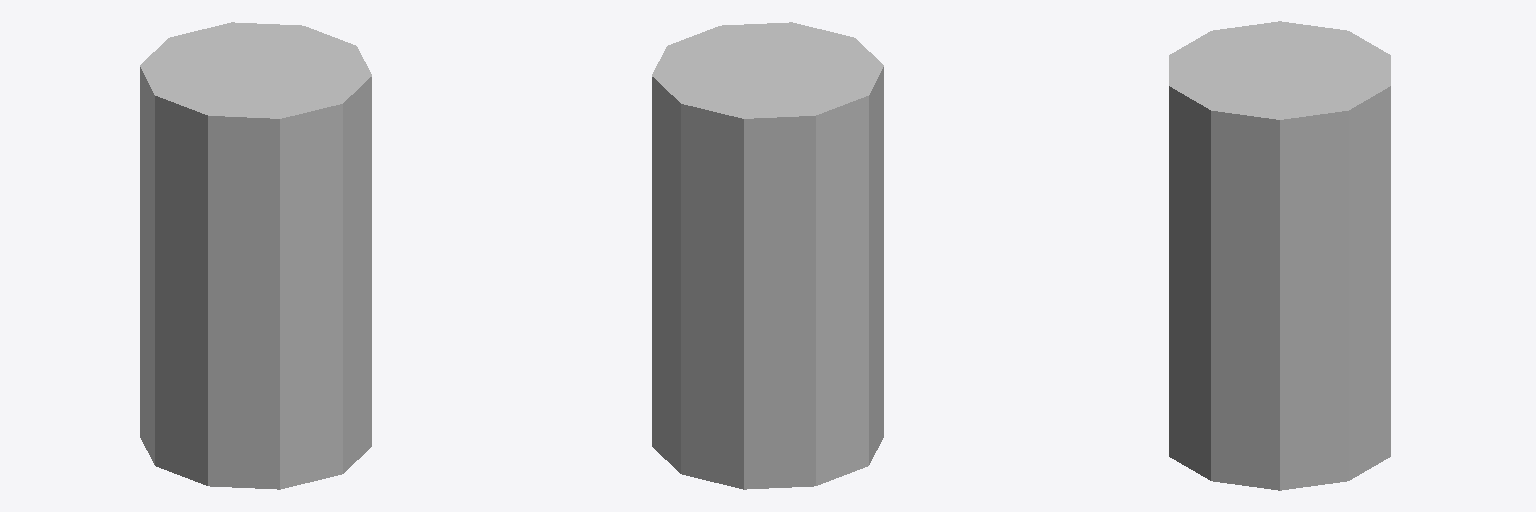
The model's file is Can_Rootbeer.obj.
The picture shows the model from 3 angles: view 1: azimuth 30°, elevation 25°; view 2: azimuth 150°, elevation 25°; view 3: azimuth 270°, elevation 25°; orthographic projection.
Parts seen in each view (by area): view 1: pCylinder1; view 2: pCylinder1; view 3: pCylinder1.
Boxes of the visible parts, box(x1,y1,x2,y2) form: pCylinder1: box(140, 22, 371, 489); pCylinder1: box(652, 22, 883, 489); pCylinder1: box(1169, 21, 1390, 490).
Bounding box in the file's own units: 0.2853 × 0.4993 × 0.2713.